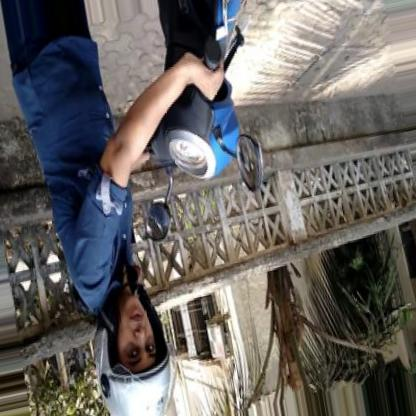with helmet: (92, 288, 172, 416)
